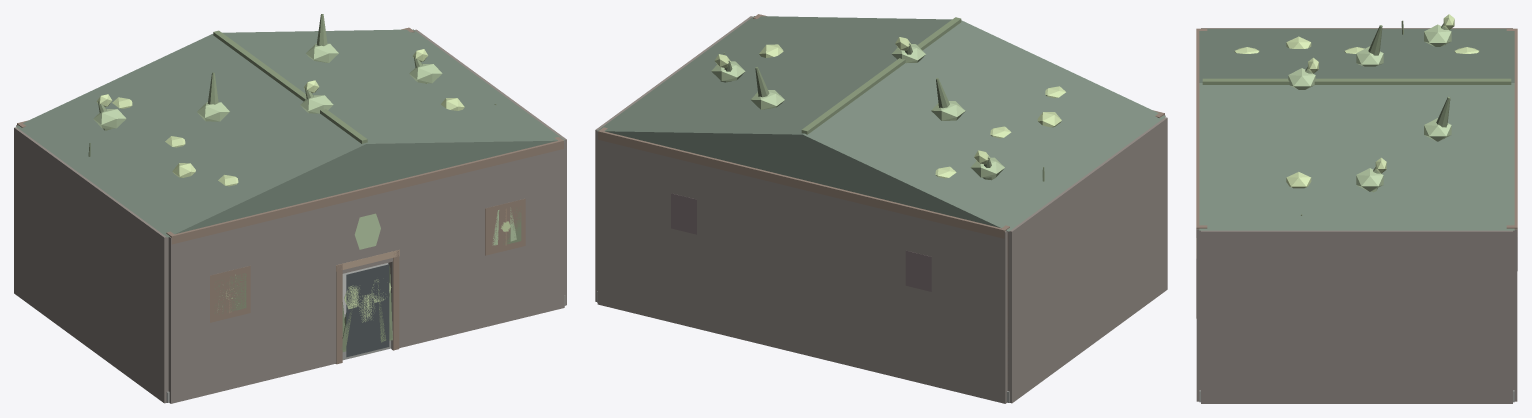
Rendered from timber_longhouse_infested.glb.
The picture shows the model from 3 angles, left to right: view 1: azimuth 30°, elevation 25°; view 2: azimuth 150°, elevation 25°; view 3: azimuth 270°, elevation 25°; orthographic projection. The views are drawn at different scales.
Visible parts, largest first — view 1: timber_longhouse_mat_01, timber_longhouse_mat_10, timber_longhouse_mat_02, timber_longhouse_mat_04, timber_longhouse_mat_06, timber_longhouse_mat_08, timber_longhouse_mat_05, timber_longhouse_mat_00; view 2: timber_longhouse_mat_01, timber_longhouse_mat_10, timber_longhouse_mat_02, timber_longhouse_mat_06, timber_longhouse_mat_08, timber_longhouse_mat_09, timber_longhouse_mat_05; view 3: timber_longhouse_mat_10, timber_longhouse_mat_01, timber_longhouse_mat_06, timber_longhouse_mat_08, timber_longhouse_mat_02, timber_longhouse_mat_05.
Boxes of the visible parts, box(x1,y1,x2,y2) form: timber_longhouse_mat_01: box(14, 29, 566, 403); timber_longhouse_mat_10: box(16, 29, 564, 237); timber_longhouse_mat_02: box(17, 27, 563, 364); timber_longhouse_mat_04: box(346, 264, 389, 357); timber_longhouse_mat_06: box(88, 14, 521, 351); timber_longhouse_mat_08: box(93, 43, 516, 310); timber_longhouse_mat_05: box(96, 49, 510, 322); timber_longhouse_mat_00: box(166, 263, 565, 402); timber_longhouse_mat_01: box(595, 16, 1167, 403); timber_longhouse_mat_10: box(597, 16, 1165, 231); timber_longhouse_mat_02: box(598, 14, 1164, 390); timber_longhouse_mat_06: box(720, 17, 1044, 181); timber_longhouse_mat_08: box(711, 44, 1004, 177); timber_longhouse_mat_09: box(671, 193, 931, 291); timber_longhouse_mat_05: box(714, 37, 1065, 178); timber_longhouse_mat_10: box(1199, 29, 1514, 230); timber_longhouse_mat_01: box(1196, 28, 1517, 403); timber_longhouse_mat_06: box(1202, 20, 1511, 215); timber_longhouse_mat_08: box(1288, 24, 1451, 191); timber_longhouse_mat_02: box(1196, 28, 1517, 318); timber_longhouse_mat_05: box(1234, 14, 1479, 188).
Size of the model in its own units: 5.97 by 3.33 by 3.98.
